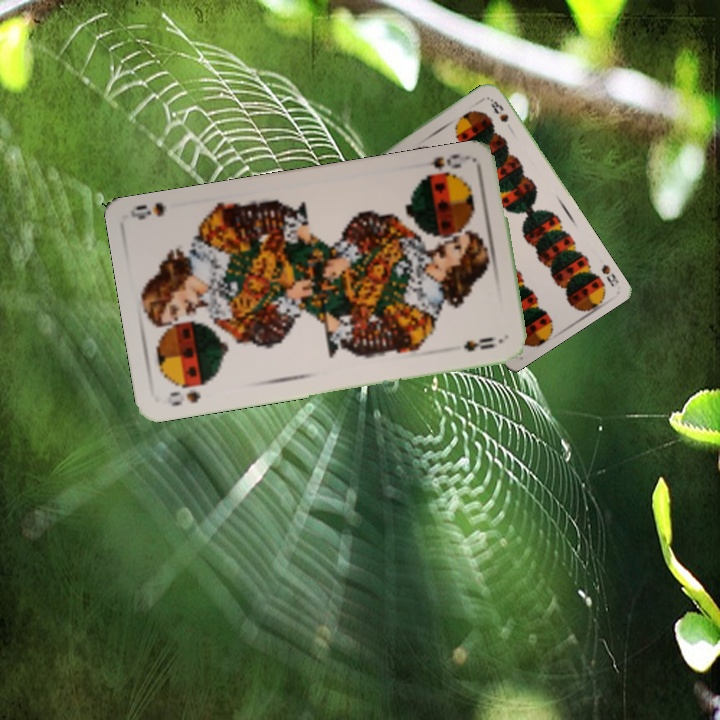S8: (597, 260, 621, 289)
SO: (415, 149, 474, 183), (166, 387, 203, 409)
